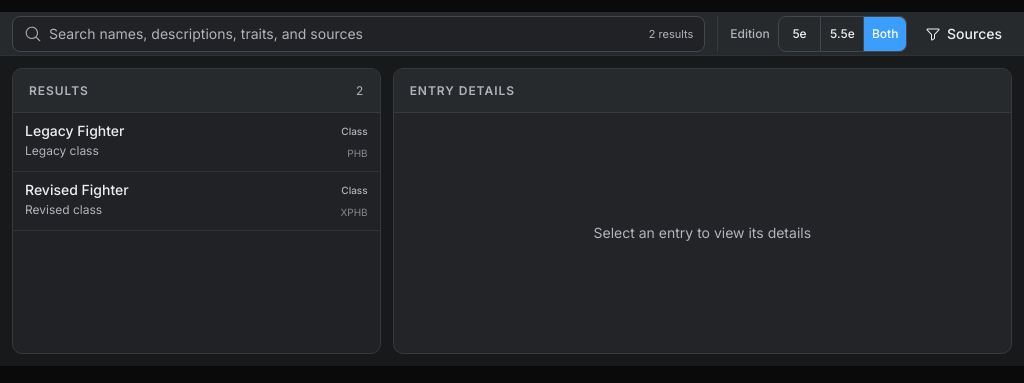
Test case: CompendiumPage edition filtering › defaults to Both without a character and filters when an edition is selected
The width and height of the screenshot is (1024, 383).
Expected: the heading "Legacy Fighter" is shown, [25,122,124,139]
Expected: the heading "Revised Fighter" is shown, [25,181,129,198]
Click the radio button named "5e edition" at (800, 34), box [778,16,821,52]
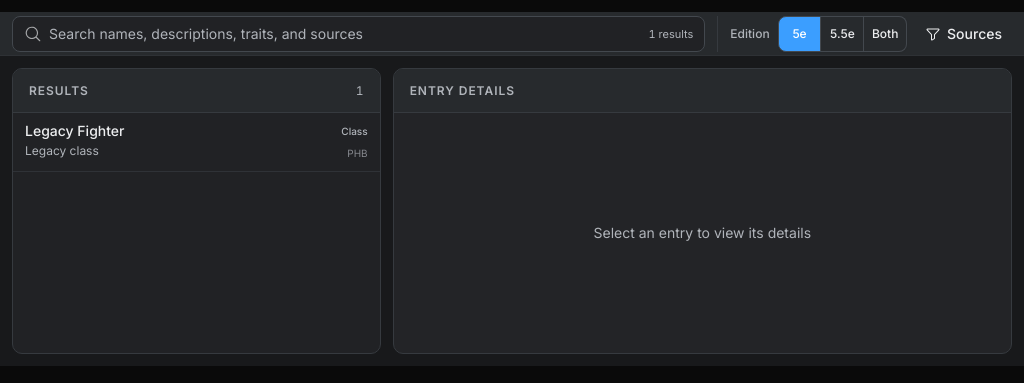
Expected: the heading "Legacy Fighter" is shown, [25,122,124,139]
Result: the button "Revised Fighter" is gone
Click the radio button named "5.5e edition" at (843, 34), box [821,16,864,52]
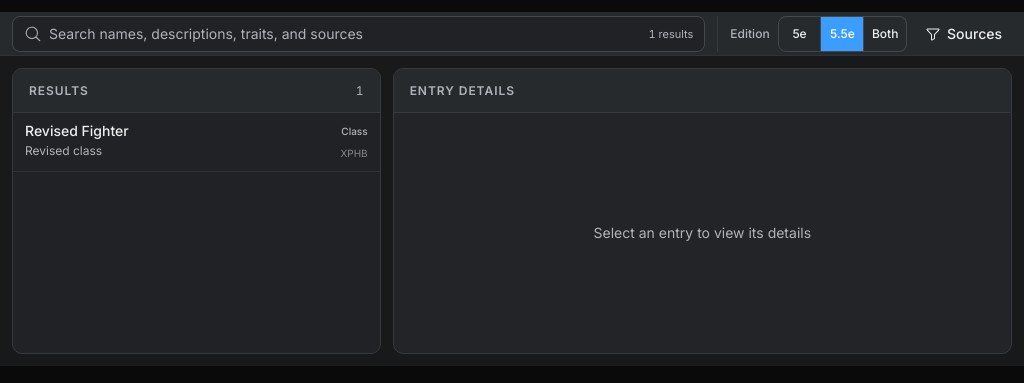
Result: the button "Legacy Fighter" is gone
Result: the heading "Revised Fighter" is shown at [25,122,129,139]
